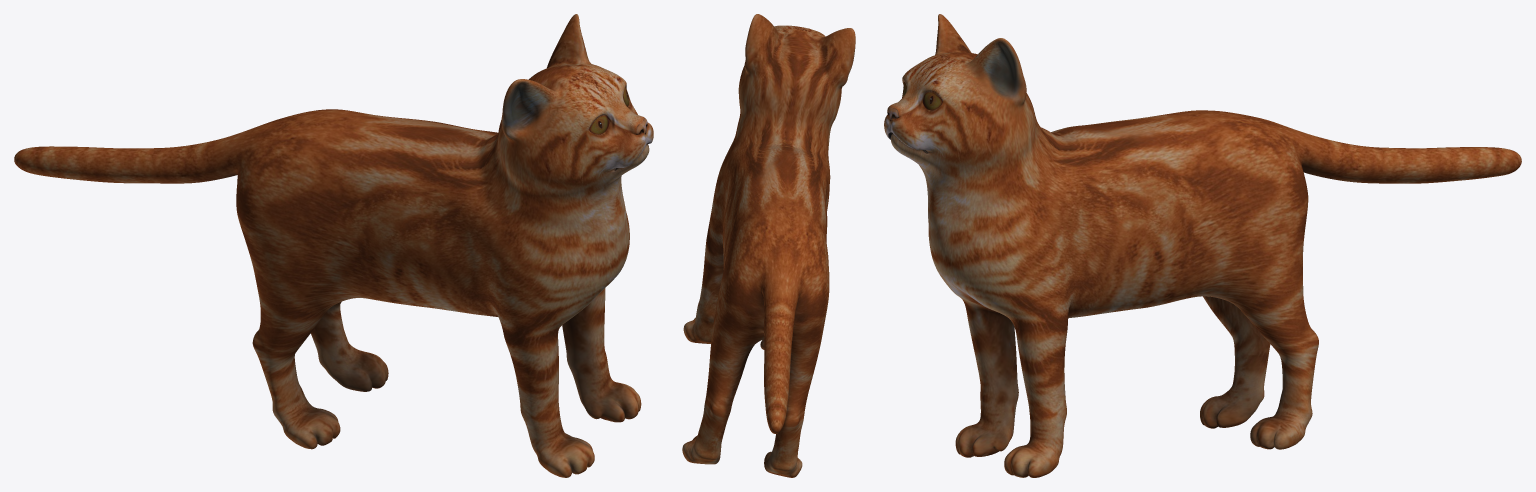
The model's file is cat.glb.
The picture shows the model from 3 angles, left to right: view 1: azimuth 30°, elevation 25°; view 2: azimuth 150°, elevation 25°; view 3: azimuth 270°, elevation 25°; orthographic projection. The views are drawn at different scales.
Visible parts, largest first — view 1: 12221_Cat_v1_l3; view 2: 12221_Cat_v1_l3; view 3: 12221_Cat_v1_l3.
Part boxes in pixels (bbox=[...]): 12221_Cat_v1_l3: bbox=[14, 14, 653, 477]; 12221_Cat_v1_l3: bbox=[682, 14, 855, 477]; 12221_Cat_v1_l3: bbox=[884, 14, 1521, 477].
Bounding box in the file's own units: 0.3447 × 0.4184 × 0.5272.
1 material, 1 textured.
